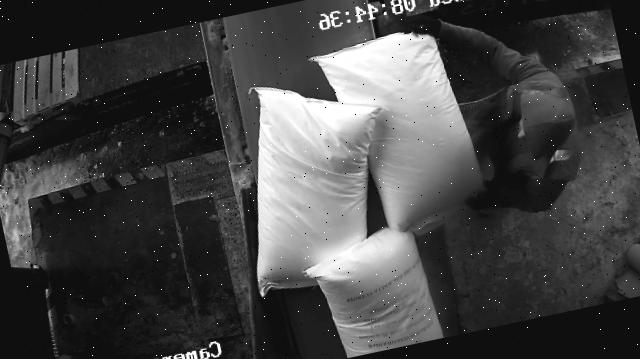bag: (217, 60, 415, 298), (308, 21, 488, 240), (301, 220, 444, 359)
